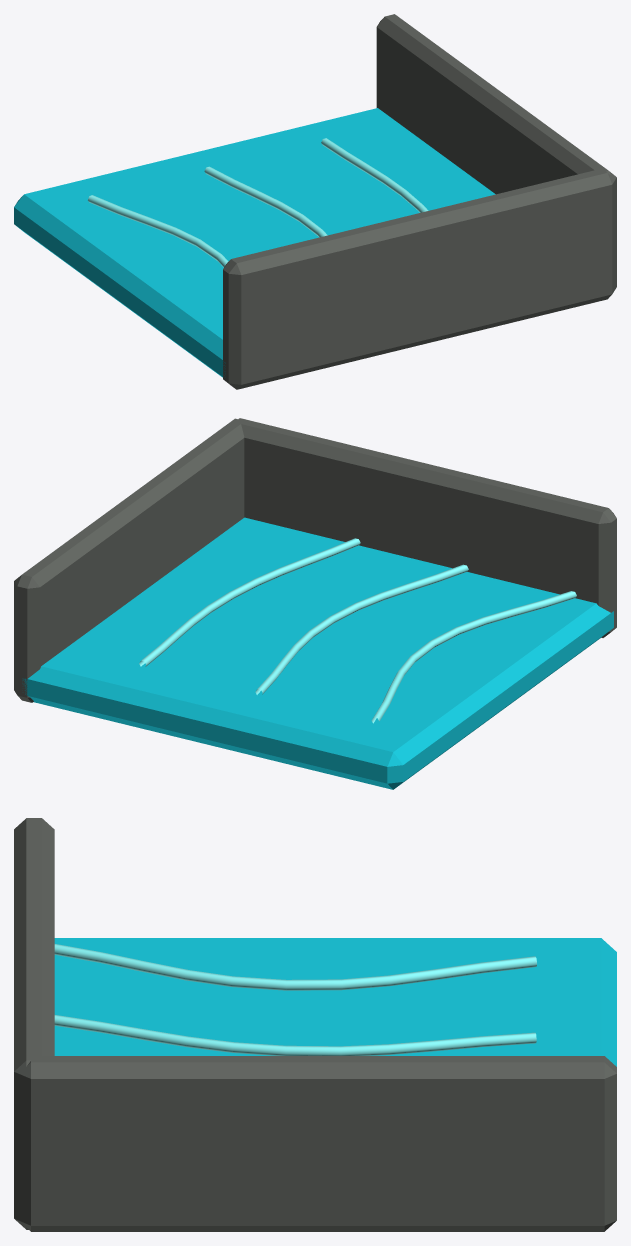
Rendered from terrain-ice-26.glb.
3 views of the same model, one above another, from view 1: azimuth 30°, elevation 25°; view 2: azimuth 150°, elevation 25°; view 3: azimuth 270°, elevation 25° (orthographic). The views are drawn at different scales.
Visible parts, largest first — view 1: terrain-ice-26; view 2: terrain-ice-26; view 3: terrain-ice-26.
Boxes of the visible parts, bbox=[...] form: terrain-ice-26: bbox=[14, 14, 616, 389]; terrain-ice-26: bbox=[14, 418, 616, 789]; terrain-ice-26: bbox=[14, 818, 616, 1231].
Bounding box in the file's own units: 0.9675 × 0.3 × 0.9675.
